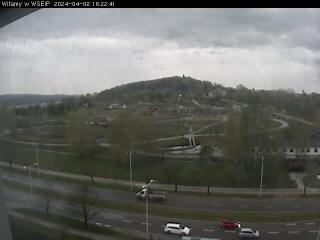car: (137, 188, 168, 202), (164, 221, 191, 237), (237, 227, 260, 240), (219, 219, 241, 230)
